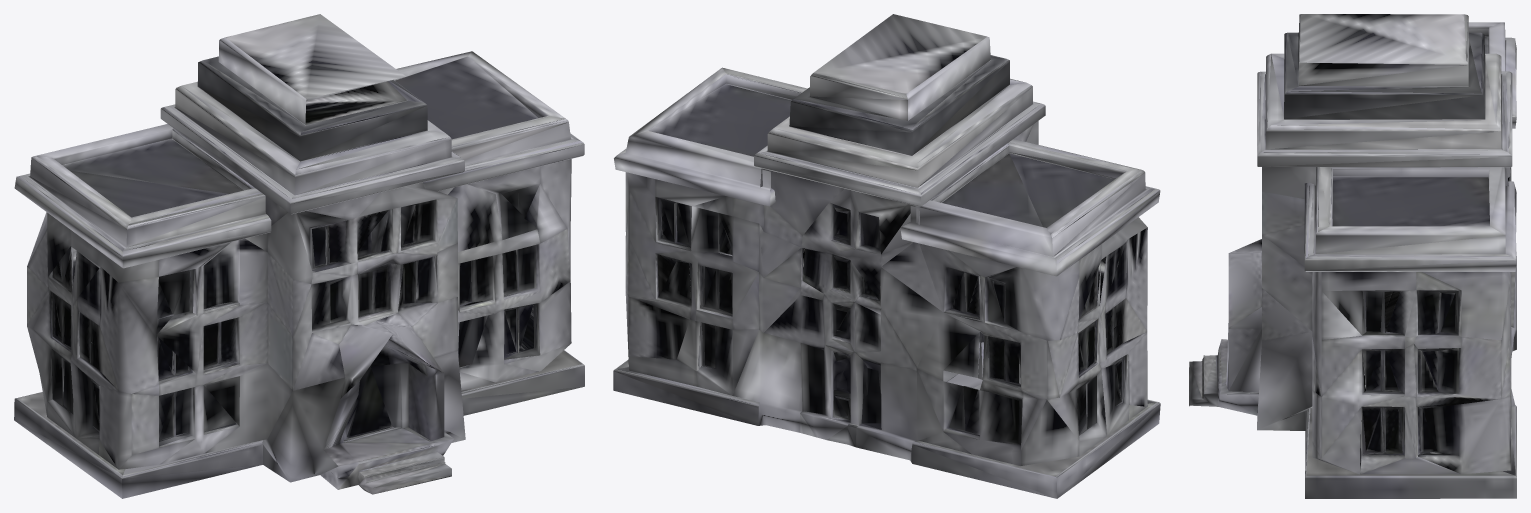
File: 32-university-building.glb
3 renders of one model, left to right at view 1: azimuth 30°, elevation 25°; view 2: azimuth 150°, elevation 25°; view 3: azimuth 270°, elevation 25°, orthographic. The views are drawn at different scales.
Parts seen in each view (by area): view 1: geometry_0; view 2: geometry_0; view 3: geometry_0.
Part boxes in pixels (x1,y1,x2,y2): geometry_0: [14, 14, 584, 498]; geometry_0: [613, 14, 1160, 498]; geometry_0: [1189, 14, 1516, 498].
Size of the model in its own units: 0.9497 by 0.7017 by 0.5933.
Materials: 1 (1 with a texture image).
